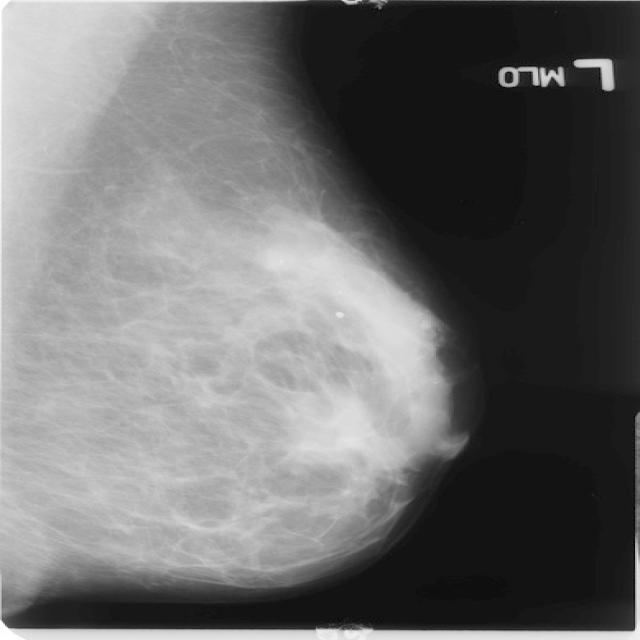tumour: (285, 403, 385, 462)
